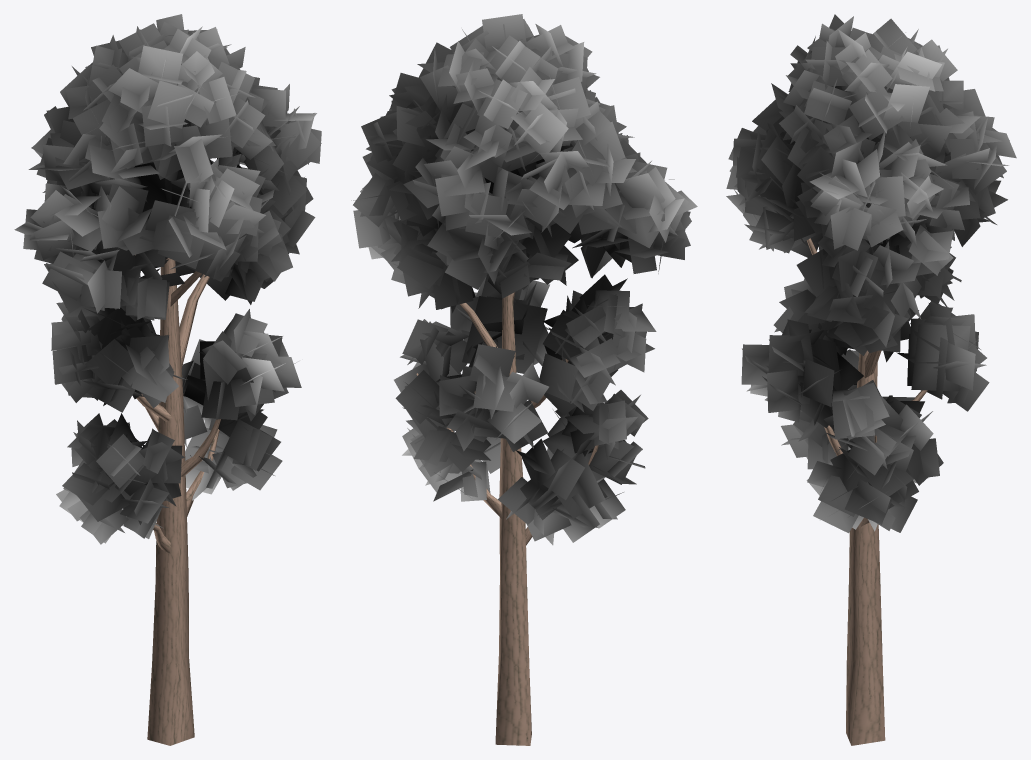
The model's file is b_plant_tree_03.fbx.
3 views of the same model, side by side, from view 1: azimuth 30°, elevation 25°; view 2: azimuth 150°, elevation 25°; view 3: azimuth 270°, elevation 25° (orthographic).
Visible parts, largest first — view 1: b_plant_tree_03_02, b_plant_tree_03_01; view 2: b_plant_tree_03_02, b_plant_tree_03_01; view 3: b_plant_tree_03_02, b_plant_tree_03_01.
Boxes of the visible parts, x1,y1,x2,y2 form: b_plant_tree_03_02: (14,14,321,544); b_plant_tree_03_01: (135,255,220,745); b_plant_tree_03_02: (351,14,697,545); b_plant_tree_03_01: (416,292,598,745); b_plant_tree_03_02: (726,14,1016,533); b_plant_tree_03_01: (807,238,927,745).
Size of the model in its own units: 8160 by 18120 by 6725.
